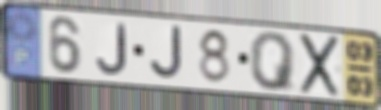6: (47, 15, 84, 76)
8: (197, 28, 232, 86)
J: (147, 24, 185, 83), (94, 22, 130, 77)
Q: (247, 30, 298, 93)
X: (298, 31, 342, 99)
